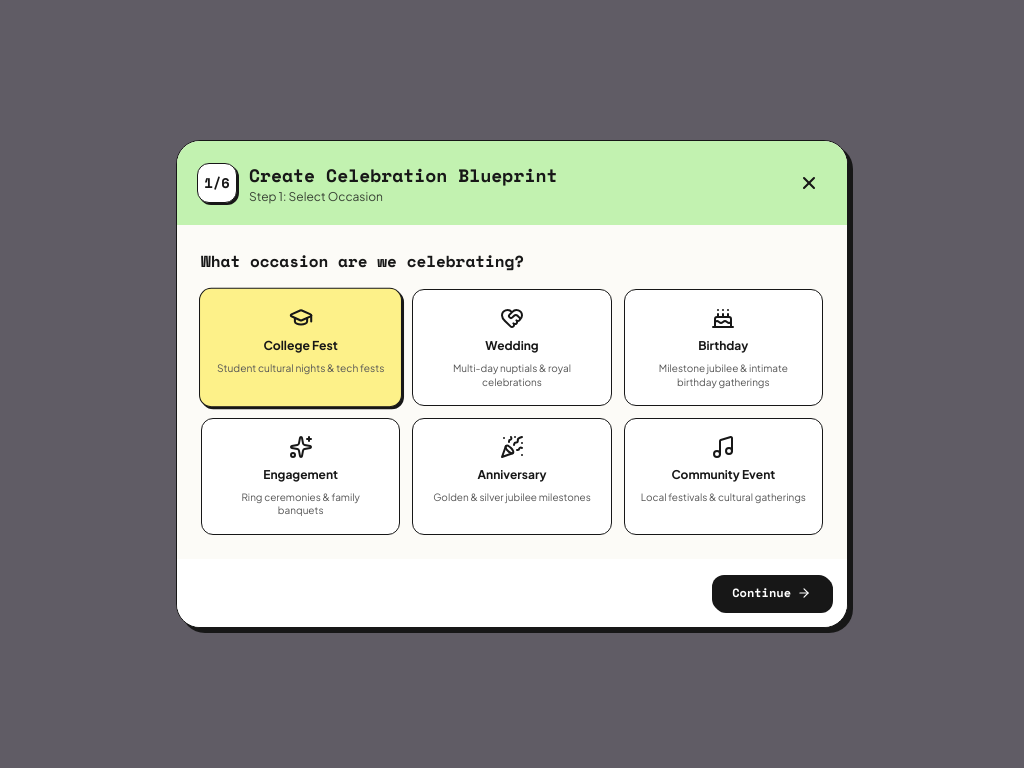
Event Creation Wizard & Form Validation › allows navigating back to previous steps without losing state
This screenshot has width=1024, height=768.
# Go to step 2
Click the button "Continue".
click(772, 593)  # box [712,575,831,611]
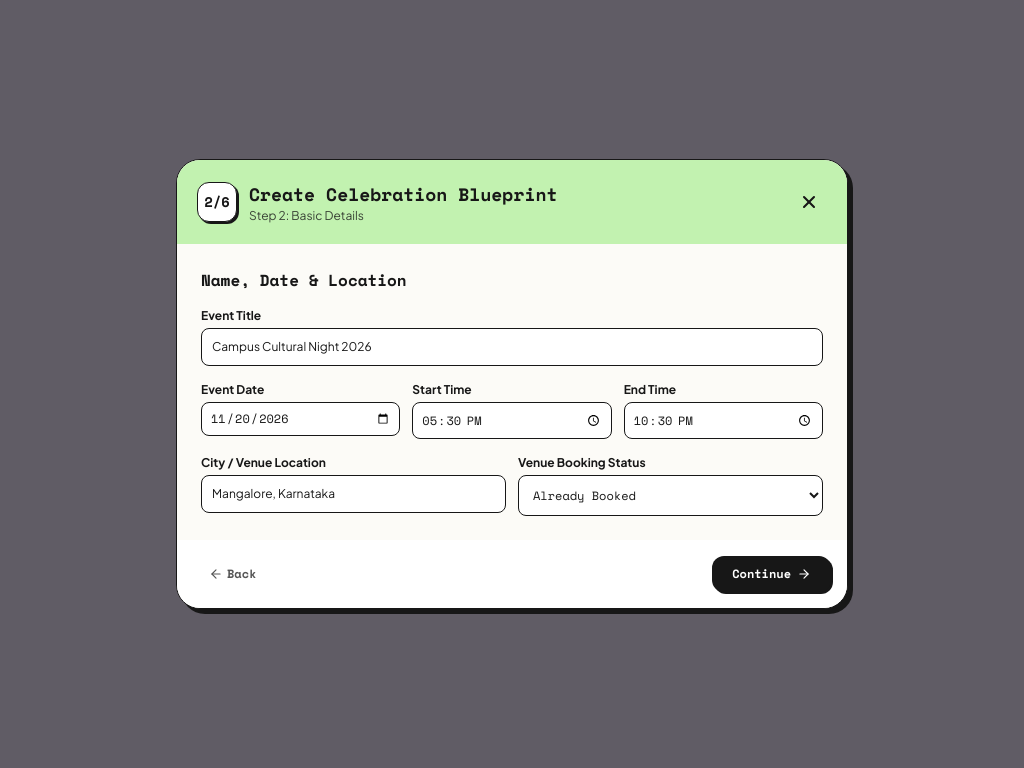
Expected: the heading "Name, Date & Location" is shown, [201,268,407,292]
# Click Back
Click the button "Back".
click(233, 574)  # box [193,558,272,590]
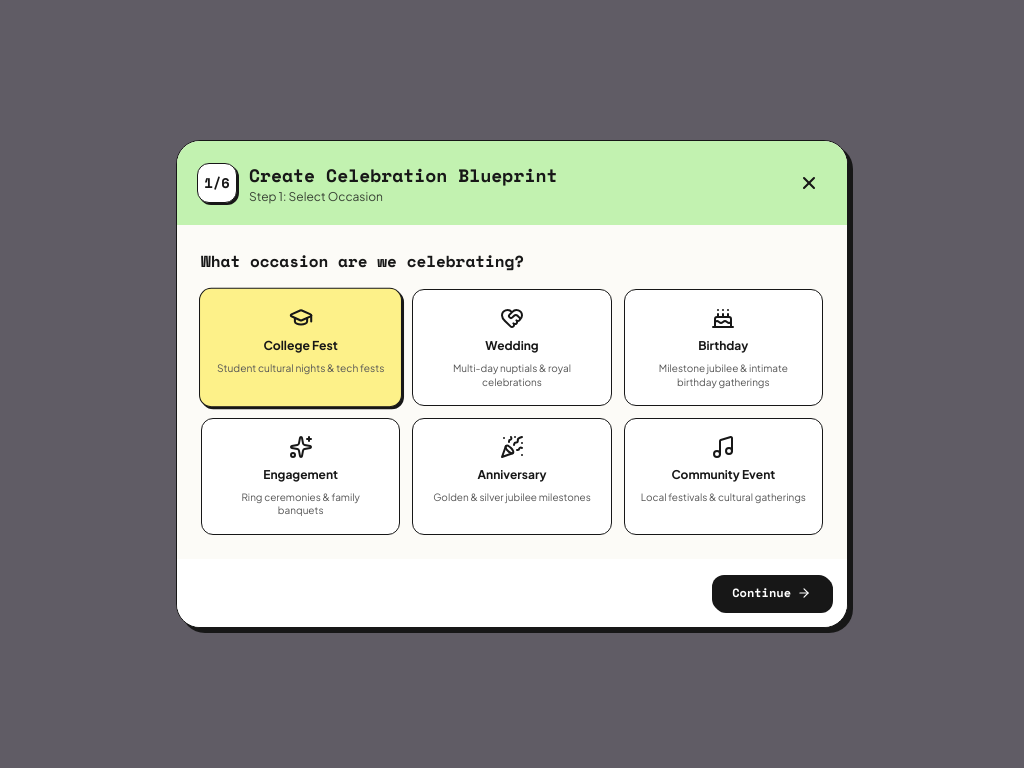
Expected: the heading "What occasion are we celebrating?" is shown, [201,249,524,273]
